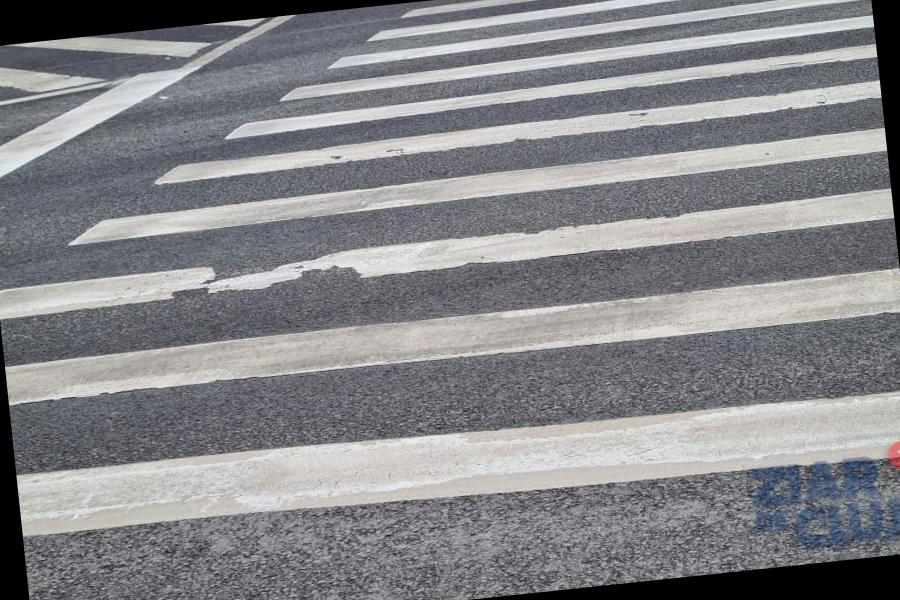faded_road_lines: (0, 193, 895, 324), (0, 13, 309, 108)
